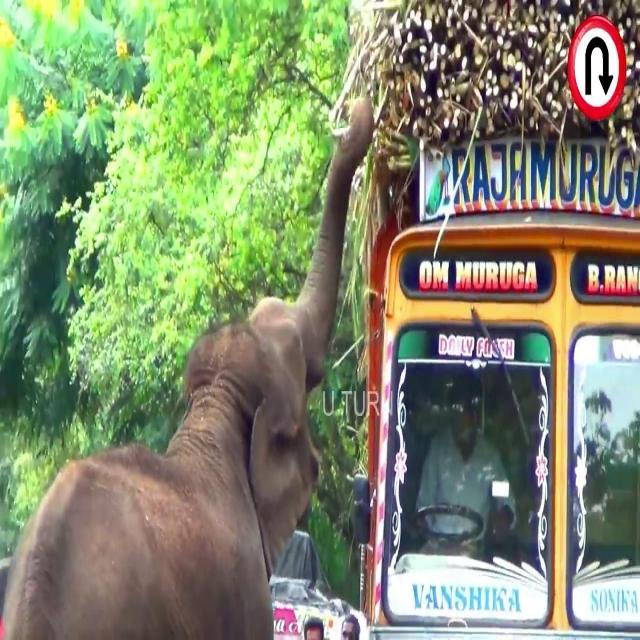Elephant: (1, 94, 376, 631)
